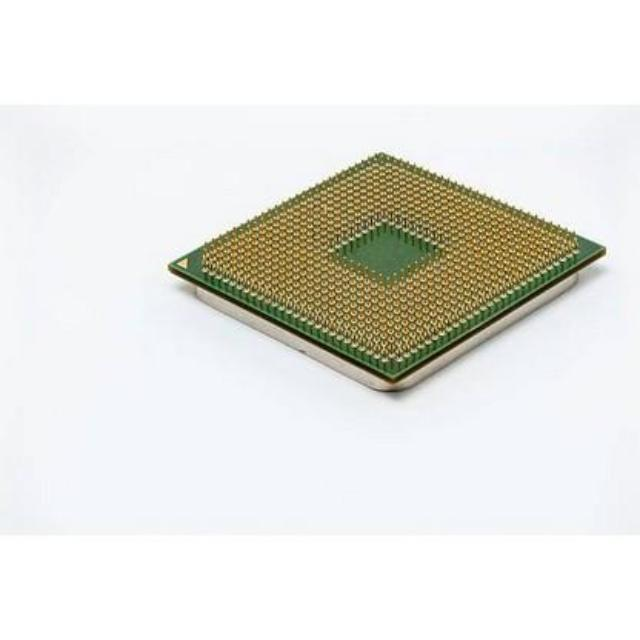CPU: (163, 142, 611, 396)
